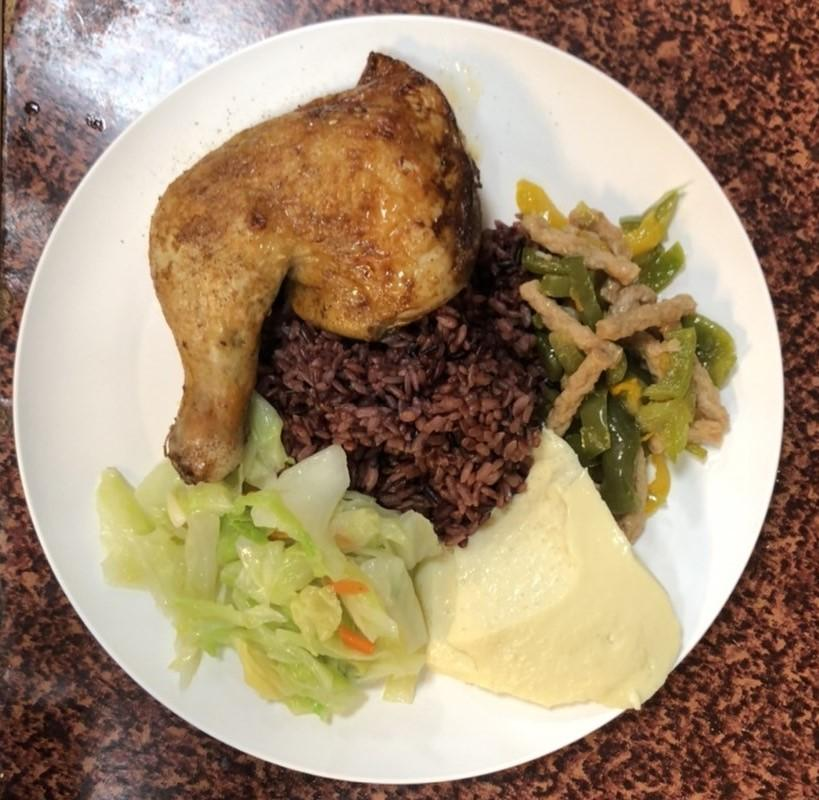big fried chicken leg: (12, 15, 799, 793)
braised fish: (252, 214, 542, 530)
braised fish fillet: (88, 420, 442, 720), (510, 172, 728, 542), (424, 425, 687, 708)
brown rice: (139, 50, 480, 478)
